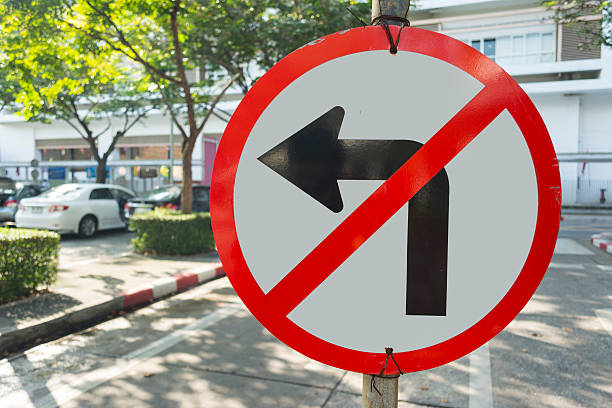otomobil: (6, 174, 148, 245)
sola_girilmez: (215, 25, 563, 369)
